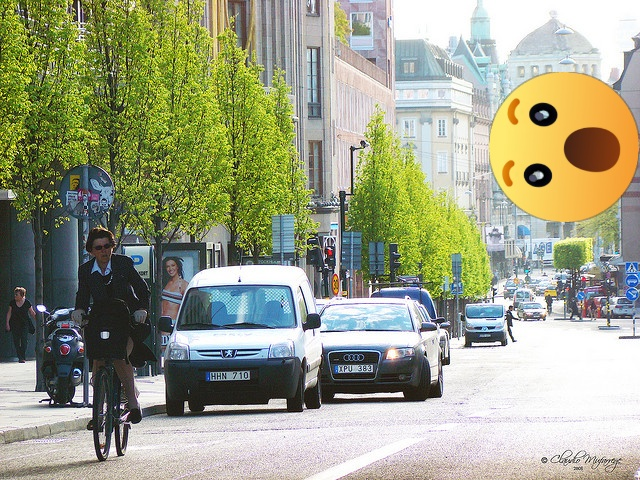wow: (489, 72, 639, 222)
